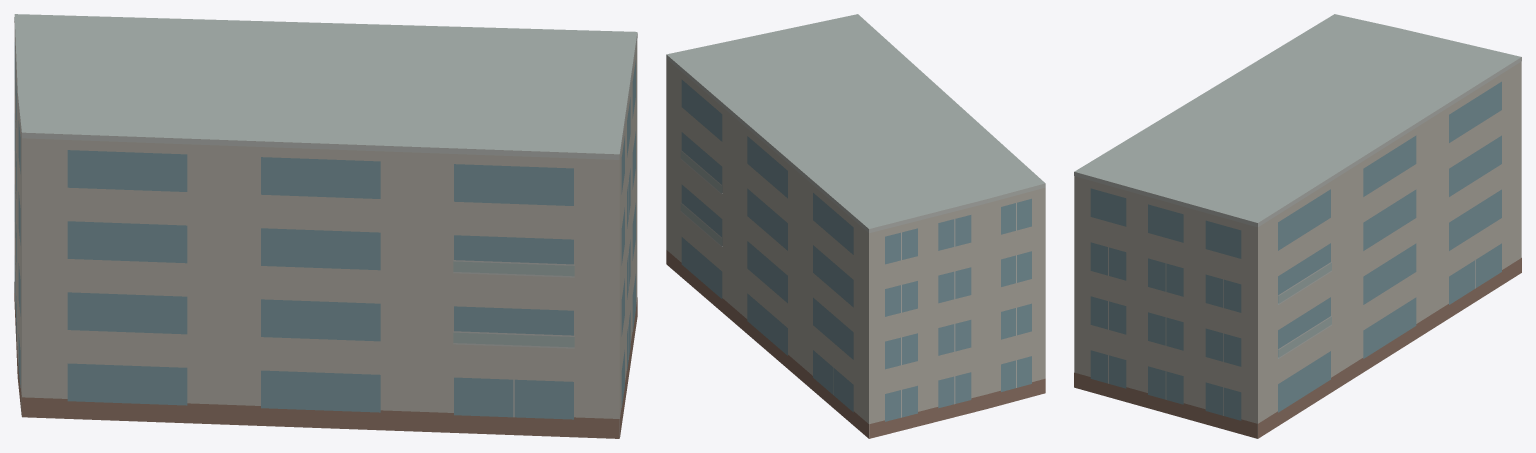
The model's file is survey-upis-32645020.glb.
3 views of the same model, side by side, from view 1: azimuth 30°, elevation 25°; view 2: azimuth 150°, elevation 25°; view 3: azimuth 270°, elevation 25° (orthographic). The views are drawn at different scales.
Parts seen in each view (by area): view 1: survey-upis-32645020.tmp; view 2: survey-upis-32645020.tmp; view 3: survey-upis-32645020.tmp.
Boxes of the visible parts, x1,y1,x2,y2 form: survey-upis-32645020.tmp: (14,14,637,438); survey-upis-32645020.tmp: (666,14,1045,438); survey-upis-32645020.tmp: (1074,14,1521,438).
Bounding box in the file's own units: 25.36 × 12.2 × 22.94.
